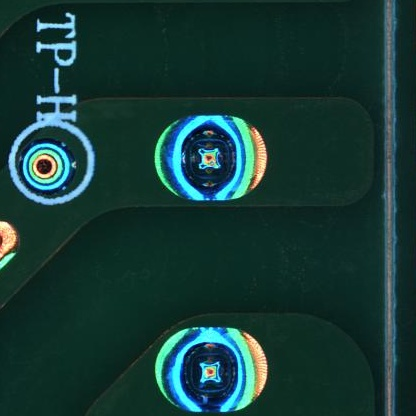spot: (156, 327, 271, 415), (155, 115, 271, 202), (17, 139, 76, 197)
